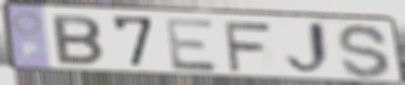7: (109, 14, 156, 71)
B: (50, 13, 106, 68)
E: (162, 16, 222, 74)
F: (220, 20, 273, 73)
J: (283, 20, 335, 79)
S: (335, 22, 394, 81)
